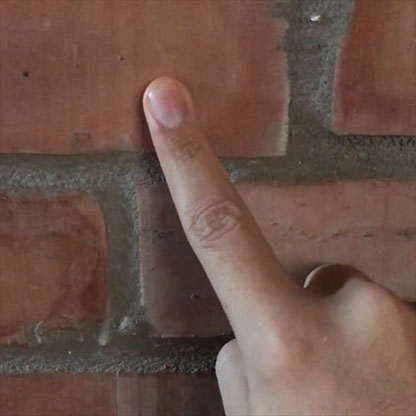fingertip: (139, 72, 199, 137)
